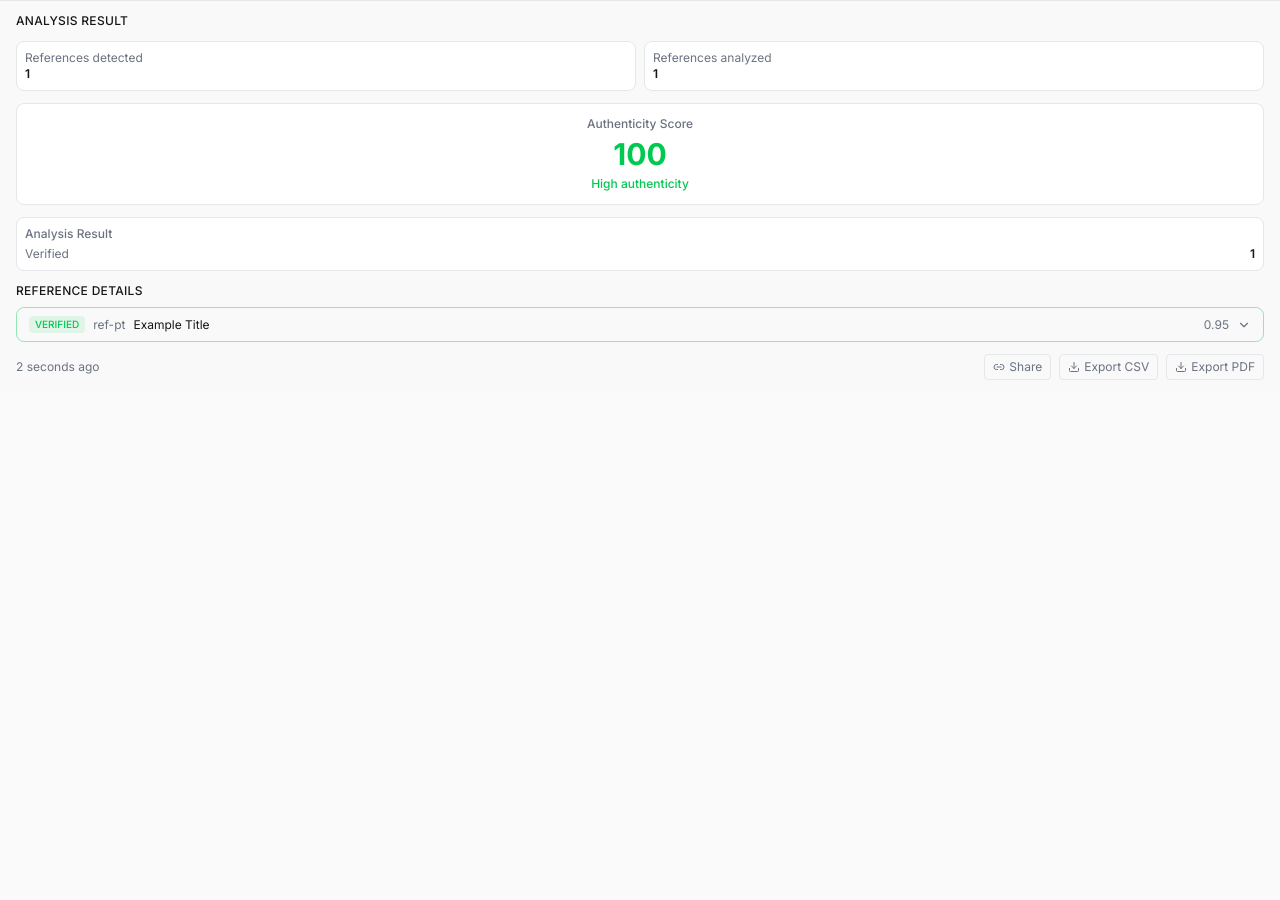
ExpandedDetail — cross-locale immutability invariant › renders Chrome labels in English when UI locale is EN
The image size is (1280, 900).
What coordinates should you click on to do the following:
click the button "Verified ref-pt Example Title 0.95"
I would click on:
 (57, 325)
Its box is [17, 308, 1263, 341].
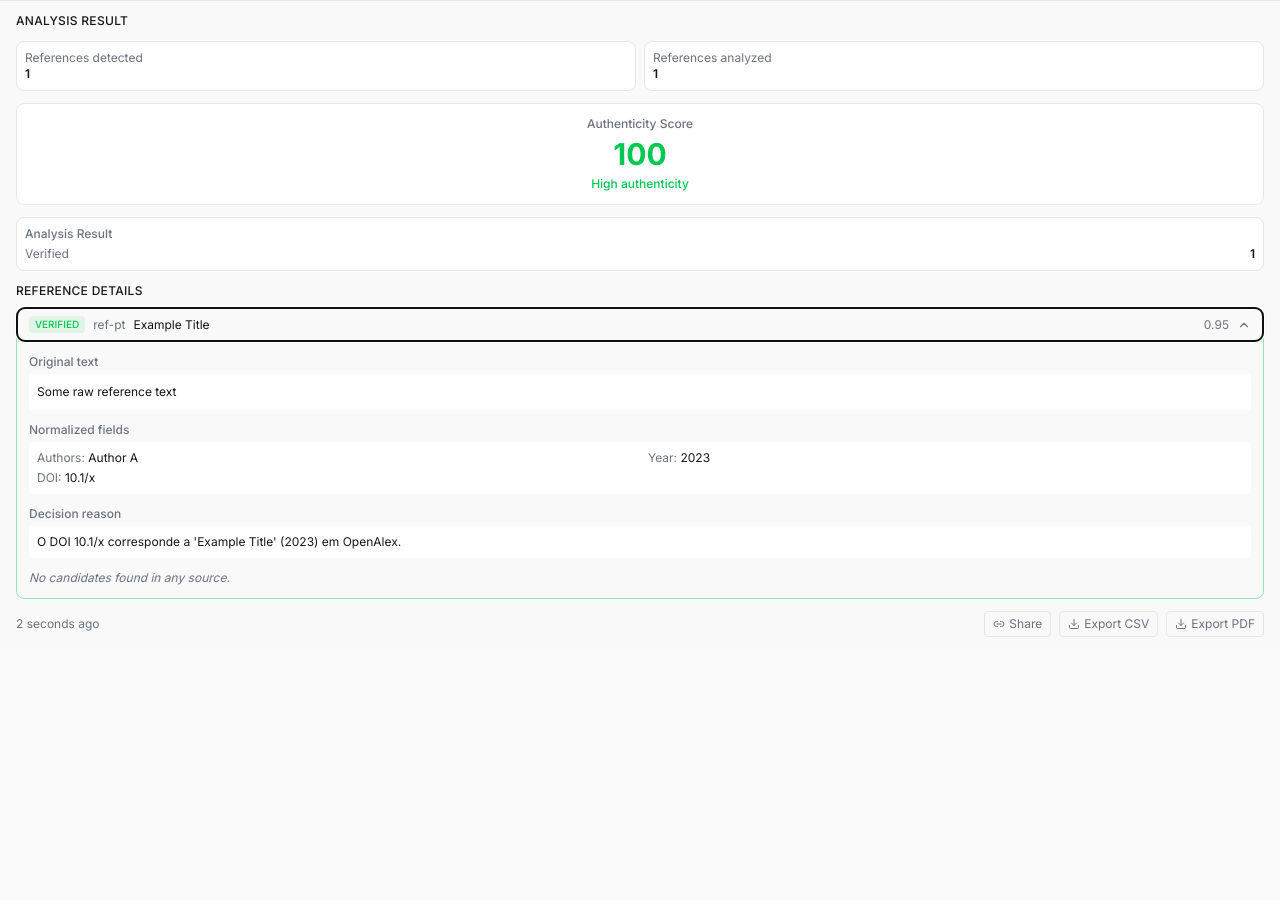
Expected: the 1st text "Verified" is shown, [25, 246, 69, 262]
Expected: the text "Decision reason" is shown, [29, 506, 121, 521]
Expected: the text "Normalized fields" is shown, [29, 422, 129, 437]
